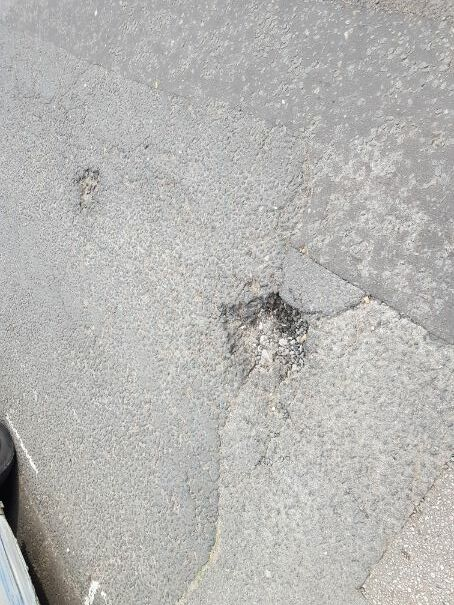pothole: (211, 288, 317, 372)
